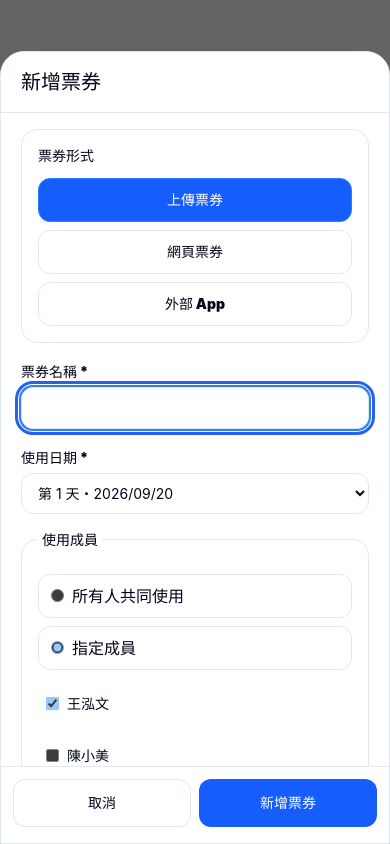
TicketEditorModal progressive form › EDITOR-13 rejects javascript: web-link URLs near the field
Click the button with test id "ticket-type-web-link".
click(195, 252)  # box [38,230,352,274]
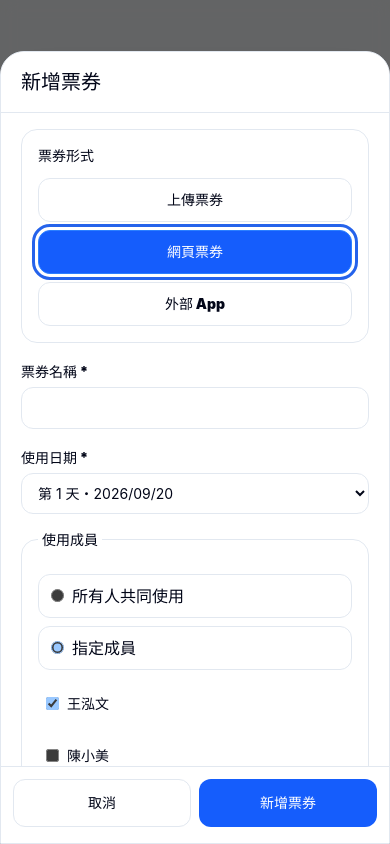
Type "電子票券" into the field with test id "ticket-title-input".
click(195, 408); type("電子票券")  # box [21,387,369,429]
(page scrolled)
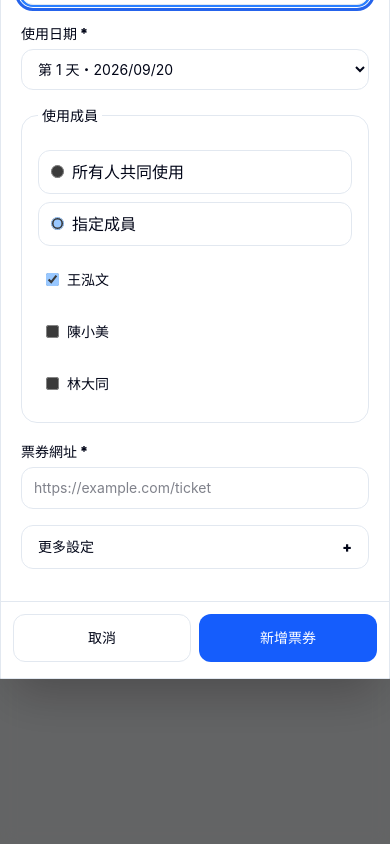
Type "javascript:alert(1)" into the field with test id "ticket-url-input".
click(195, 488); type("javascript:alert(1)")  # box [21,467,369,509]
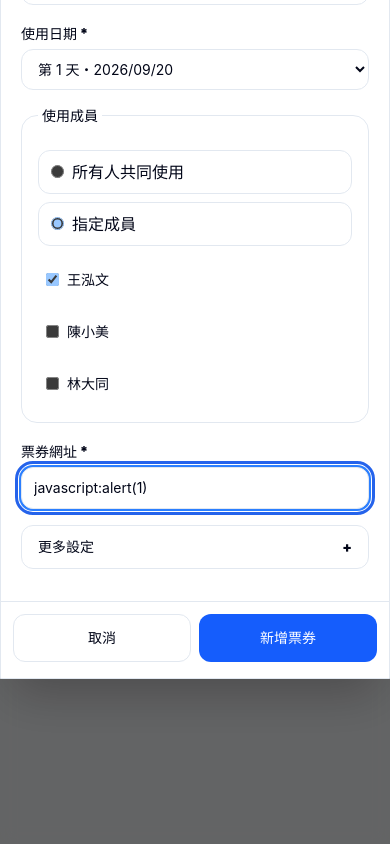
Click the button with test id "ticket-submit-button".
click(288, 638)  # box [199,614,377,662]
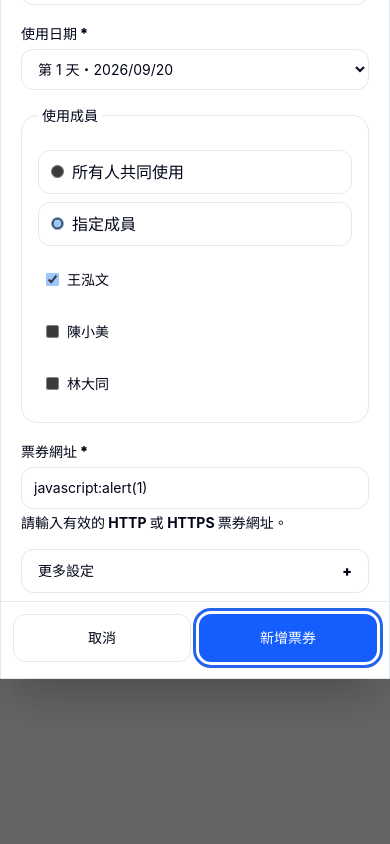
Expected: the text "請輸入有效的 HTTP 或 HTTPS 票券網址。" is shown, [21,514,288,531]
